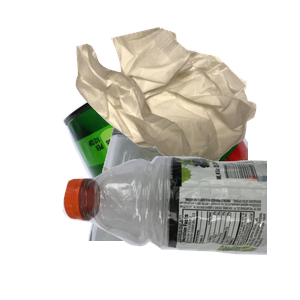glass: (86, 120, 277, 300)
metal: (60, 48, 300, 228)
plastic: (60, 152, 300, 300)
trash: (73, 25, 300, 183)
